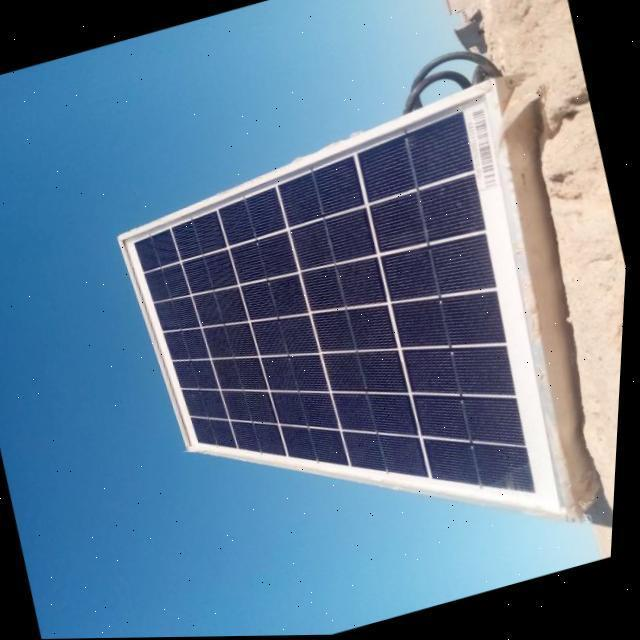Normal Solar Panel: (89, 79, 612, 628)
